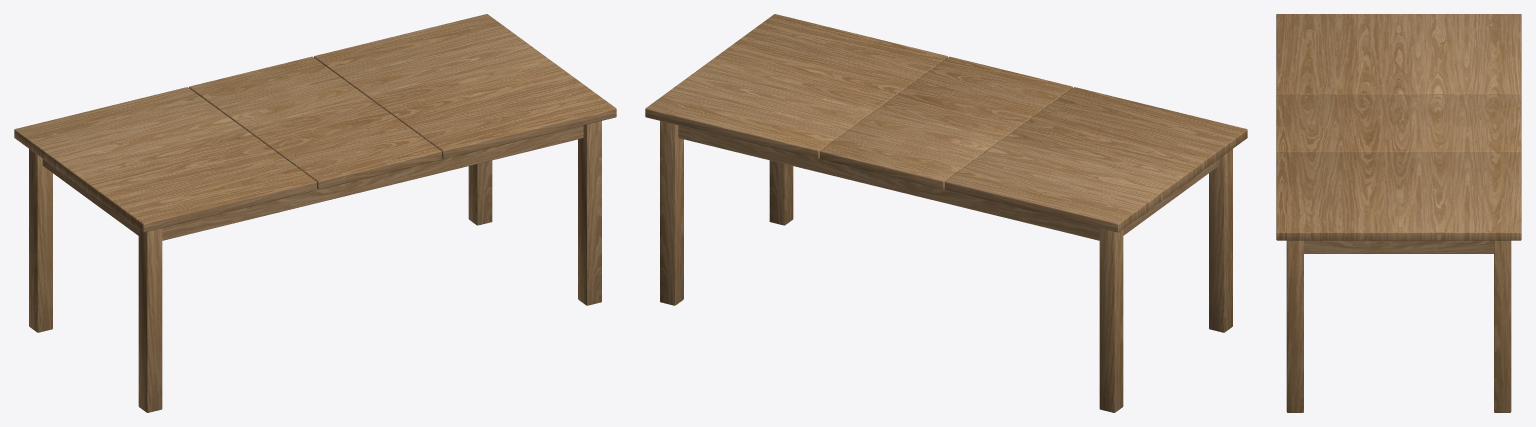
File: mesa_extensible_abierta.glb
3 renders of one model, left to right at view 1: azimuth 30°, elevation 25°; view 2: azimuth 150°, elevation 25°; view 3: azimuth 270°, elevation 25°, orthographic. The views are drawn at different scales.
Visible parts, largest first — view 1: mesa_extensible_abierta; view 2: mesa_extensible_abierta; view 3: mesa_extensible_abierta.
Part boxes in pixels (x1,y1,x2,y2): mesa_extensible_abierta: [14, 14, 616, 412]; mesa_extensible_abierta: [645, 14, 1247, 412]; mesa_extensible_abierta: [1276, 14, 1521, 412].
Size of the model in its own units: 1.9 by 0.7499 by 0.9.
Materials: 1 (1 with a texture image).
